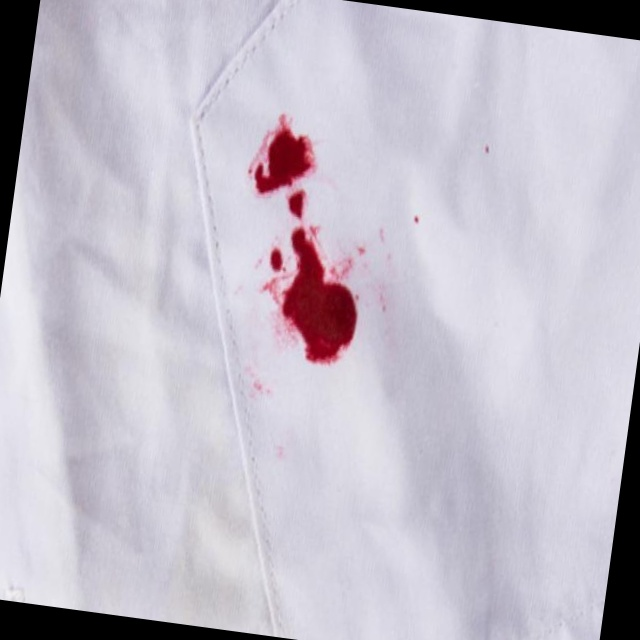blood: (247, 221, 371, 374), (247, 113, 322, 219)
